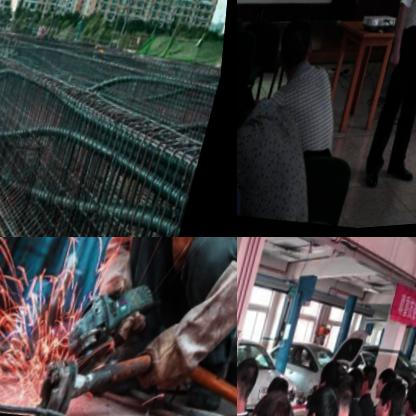head: (271, 8, 327, 76), (237, 65, 268, 158), (237, 352, 267, 416), (326, 367, 361, 416), (293, 386, 349, 416), (240, 390, 302, 416), (374, 379, 412, 416), (315, 358, 347, 401), (264, 376, 294, 416), (374, 367, 403, 408), (345, 366, 372, 407), (358, 364, 383, 404), (404, 378, 416, 416)
